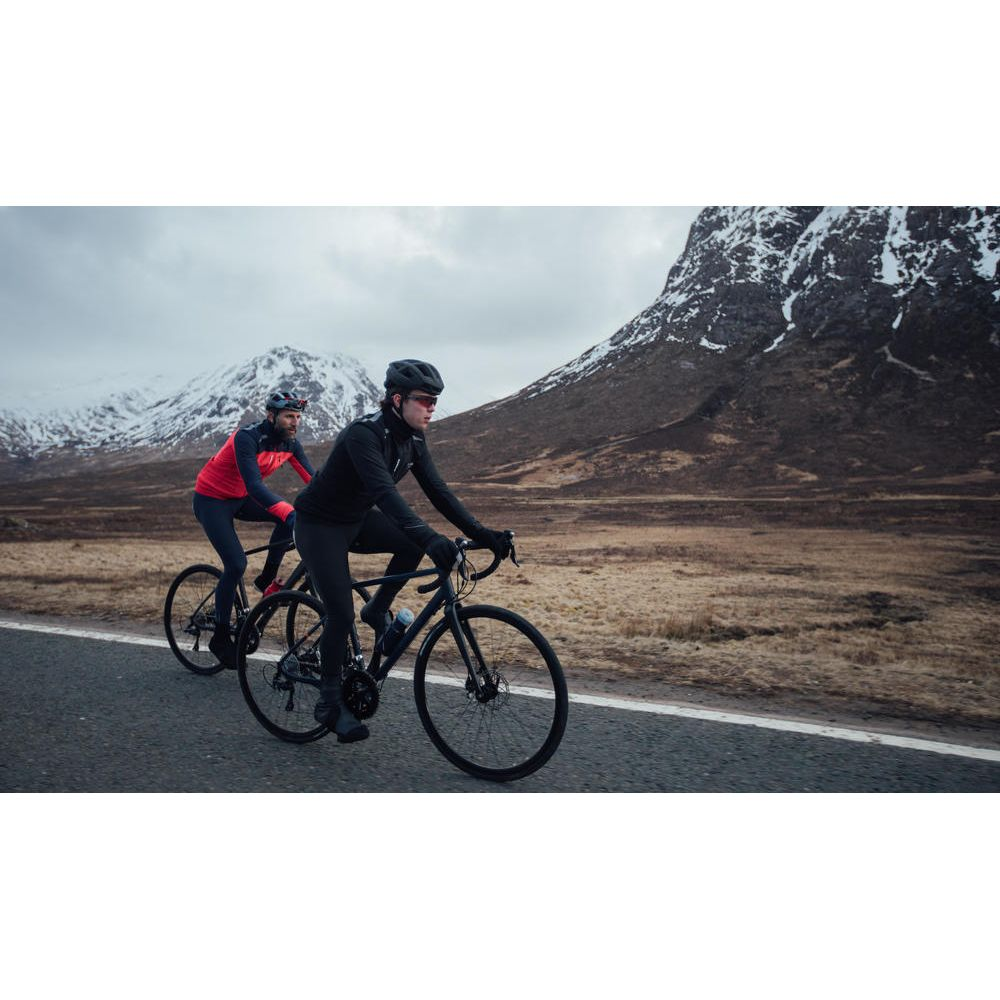RoadBike: (210, 525, 563, 766)
